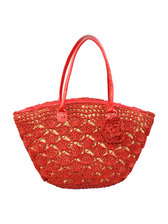bag: (10, 33, 155, 191)
